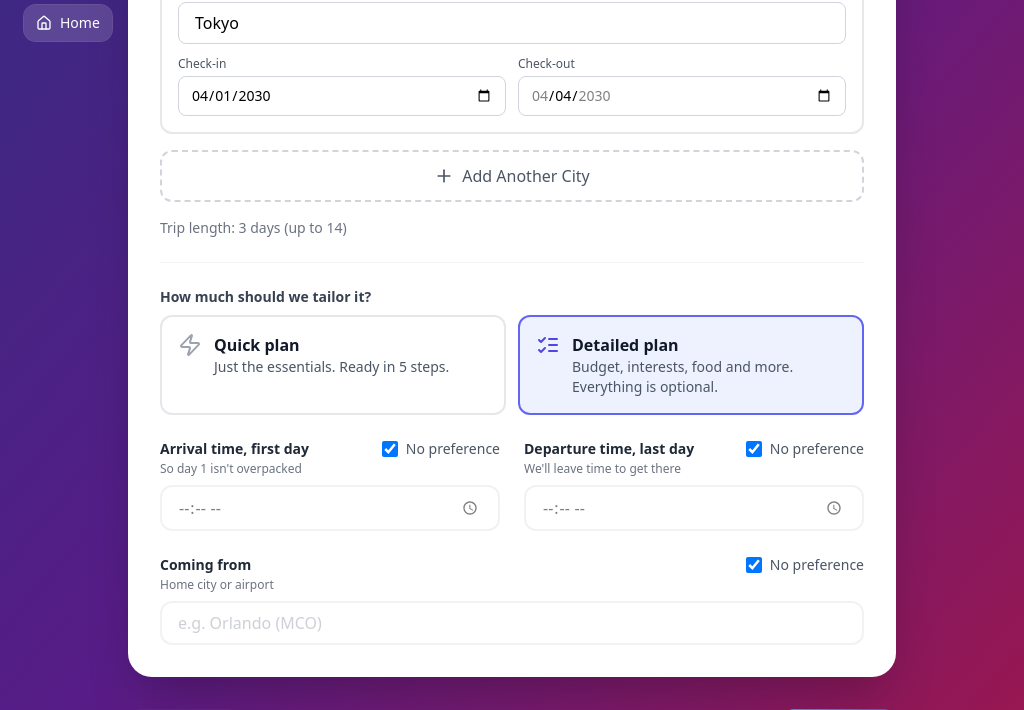
it: TripQuestionnaire › a Quick plan is the original five steps
The width and height of the screenshot is (1024, 710).
(page scrolled)
Click the radio button labelled "Quick plan Just the essentials. Ready in 5 steps." at (333, 365), box [160, 315, 506, 415]
(page scrolled)
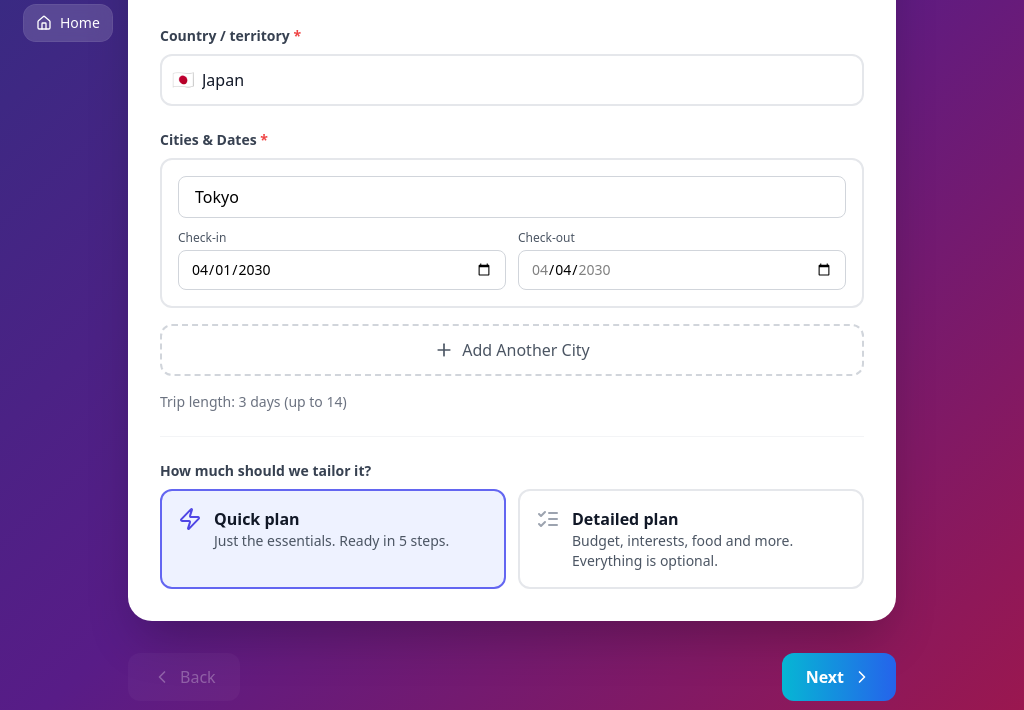
Click the button "Next" at (839, 677), box [782, 653, 896, 701]
(page scrolled)
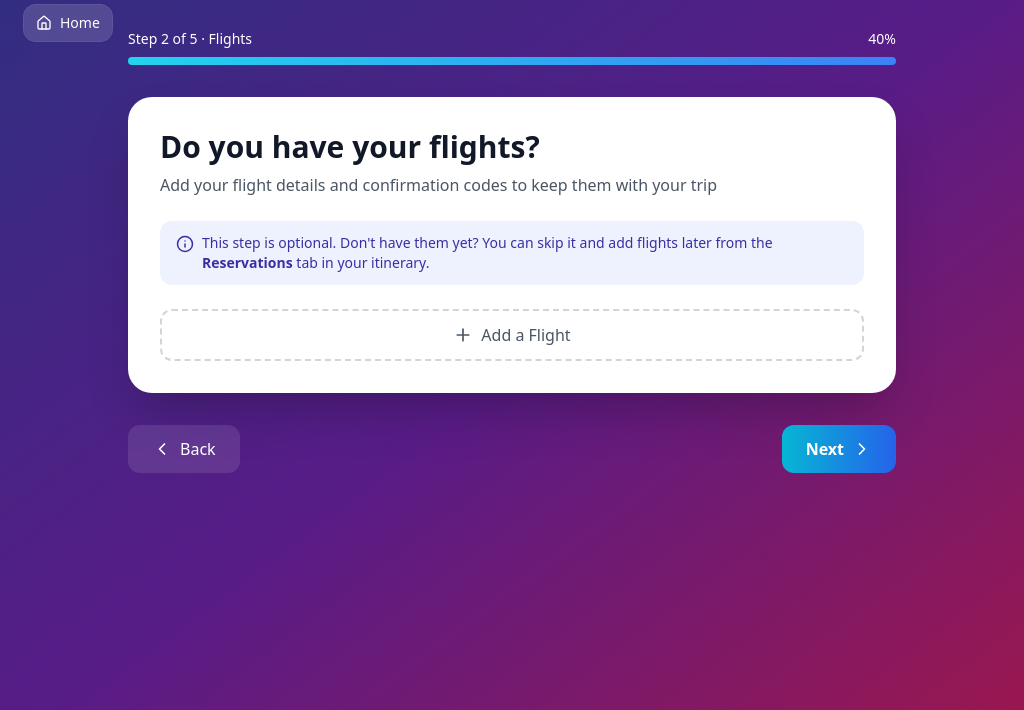
Click the button "Next" at (839, 449), box [782, 425, 896, 473]
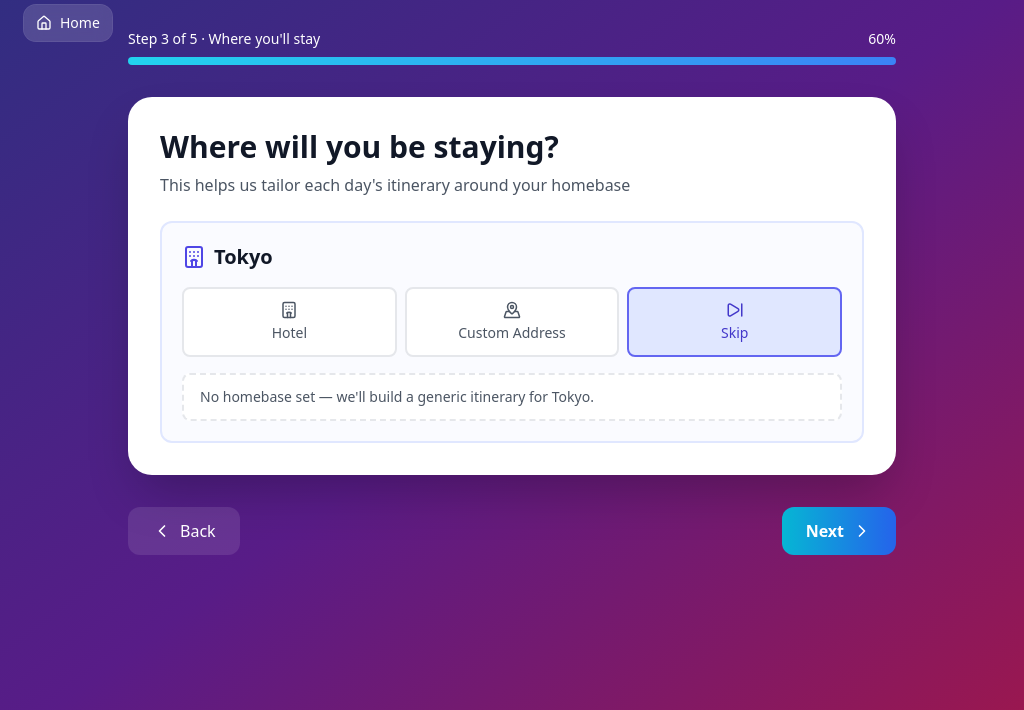
Click the button "Next" at (839, 531), box [782, 507, 896, 555]
(page scrolled)
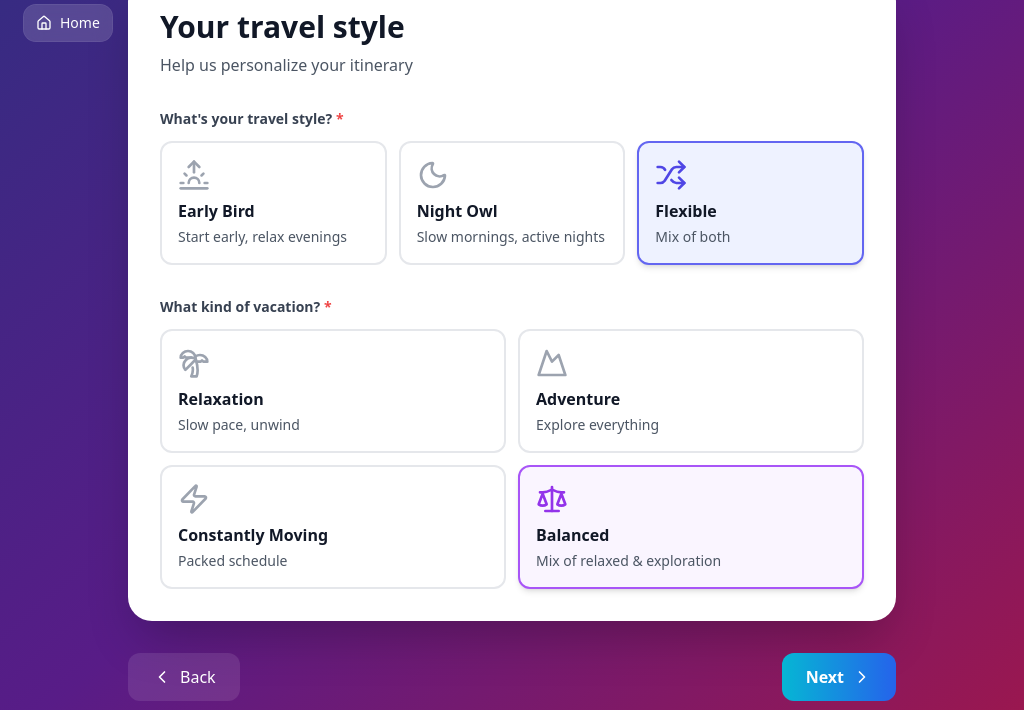
Click the button "Next" at (839, 677), box [782, 653, 896, 701]
(page scrolled)
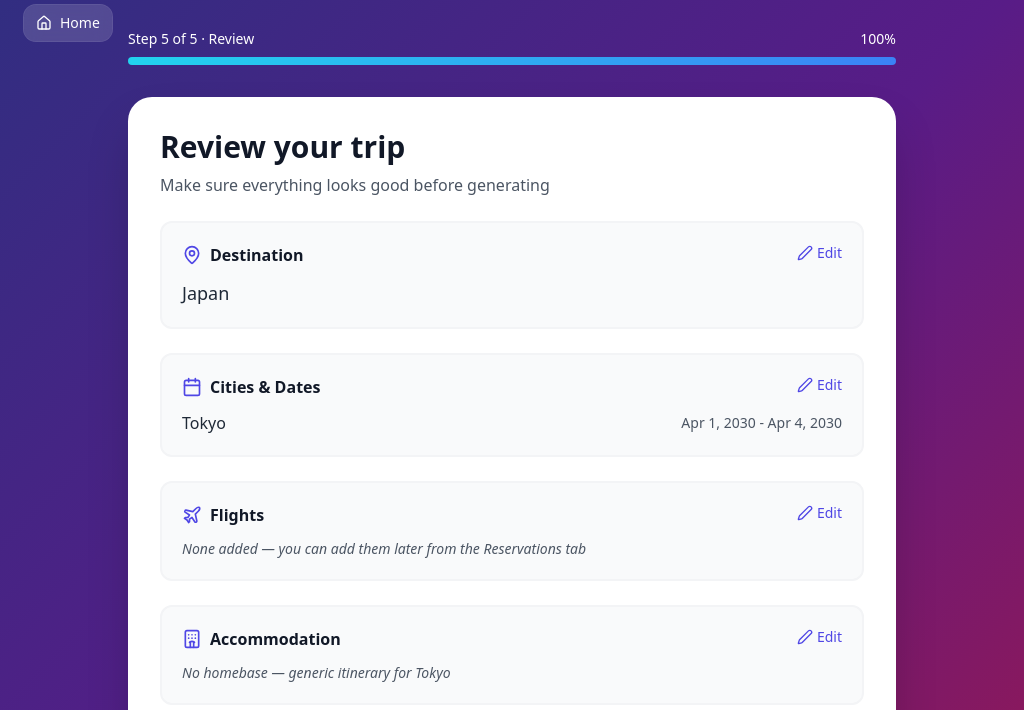
Now the text "Step 5 of 5 · Review" is shown, box [128, 29, 254, 49]
